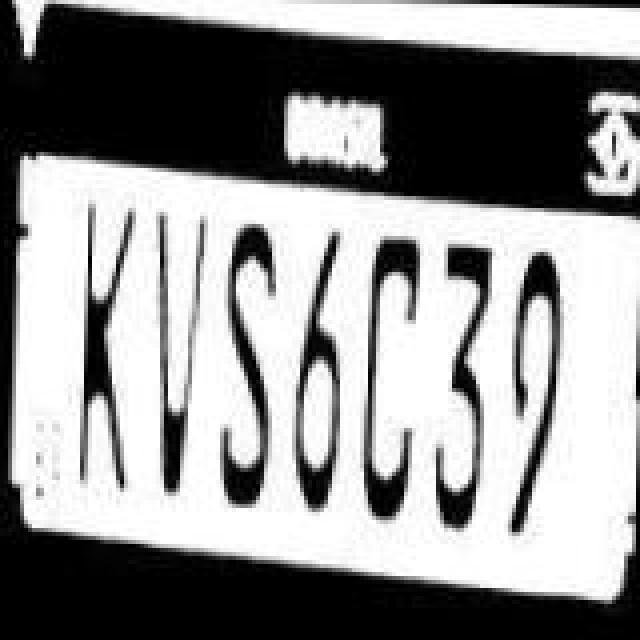3: (418, 218, 498, 538)
6: (276, 210, 360, 522)
9: (492, 226, 576, 542)
C: (352, 218, 428, 534)
K: (52, 188, 140, 500)
S: (200, 202, 284, 510)
V: (134, 196, 206, 512)
